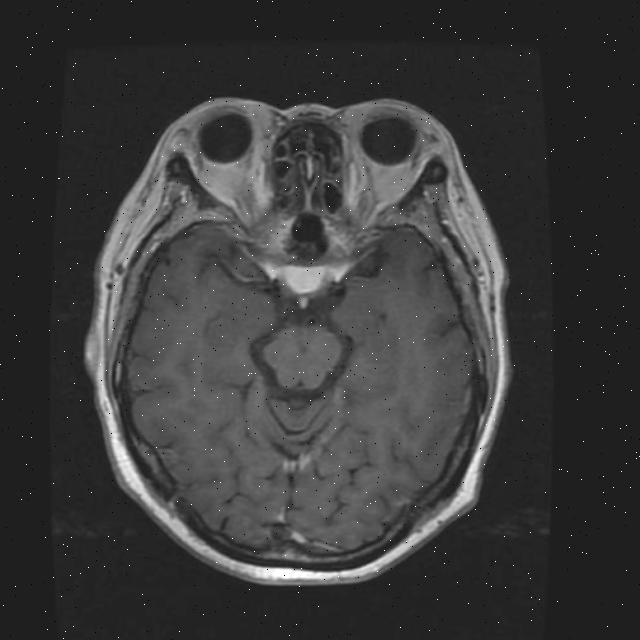Pituitary: (281, 261, 329, 297)
